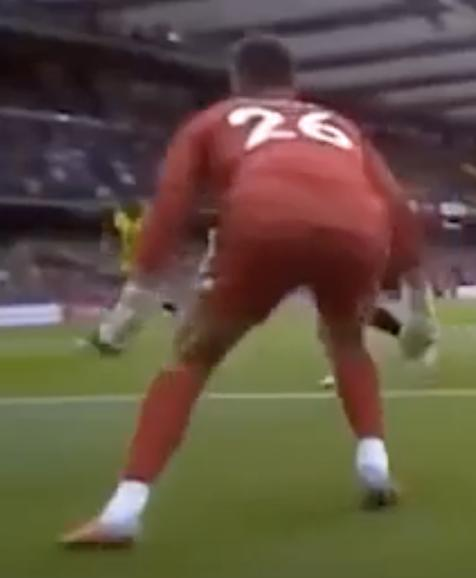goalkeeper: (28, 5, 476, 570)
